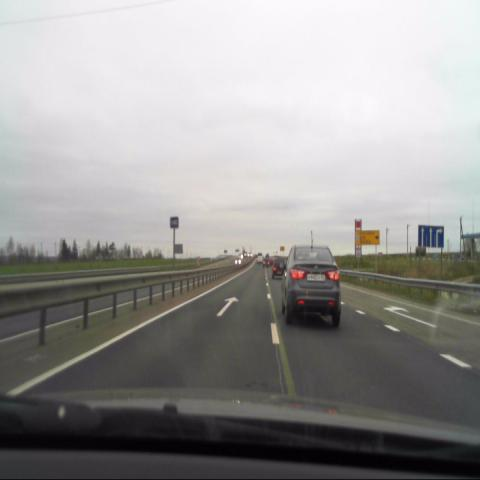5_15_1: (417, 223, 444, 249)
